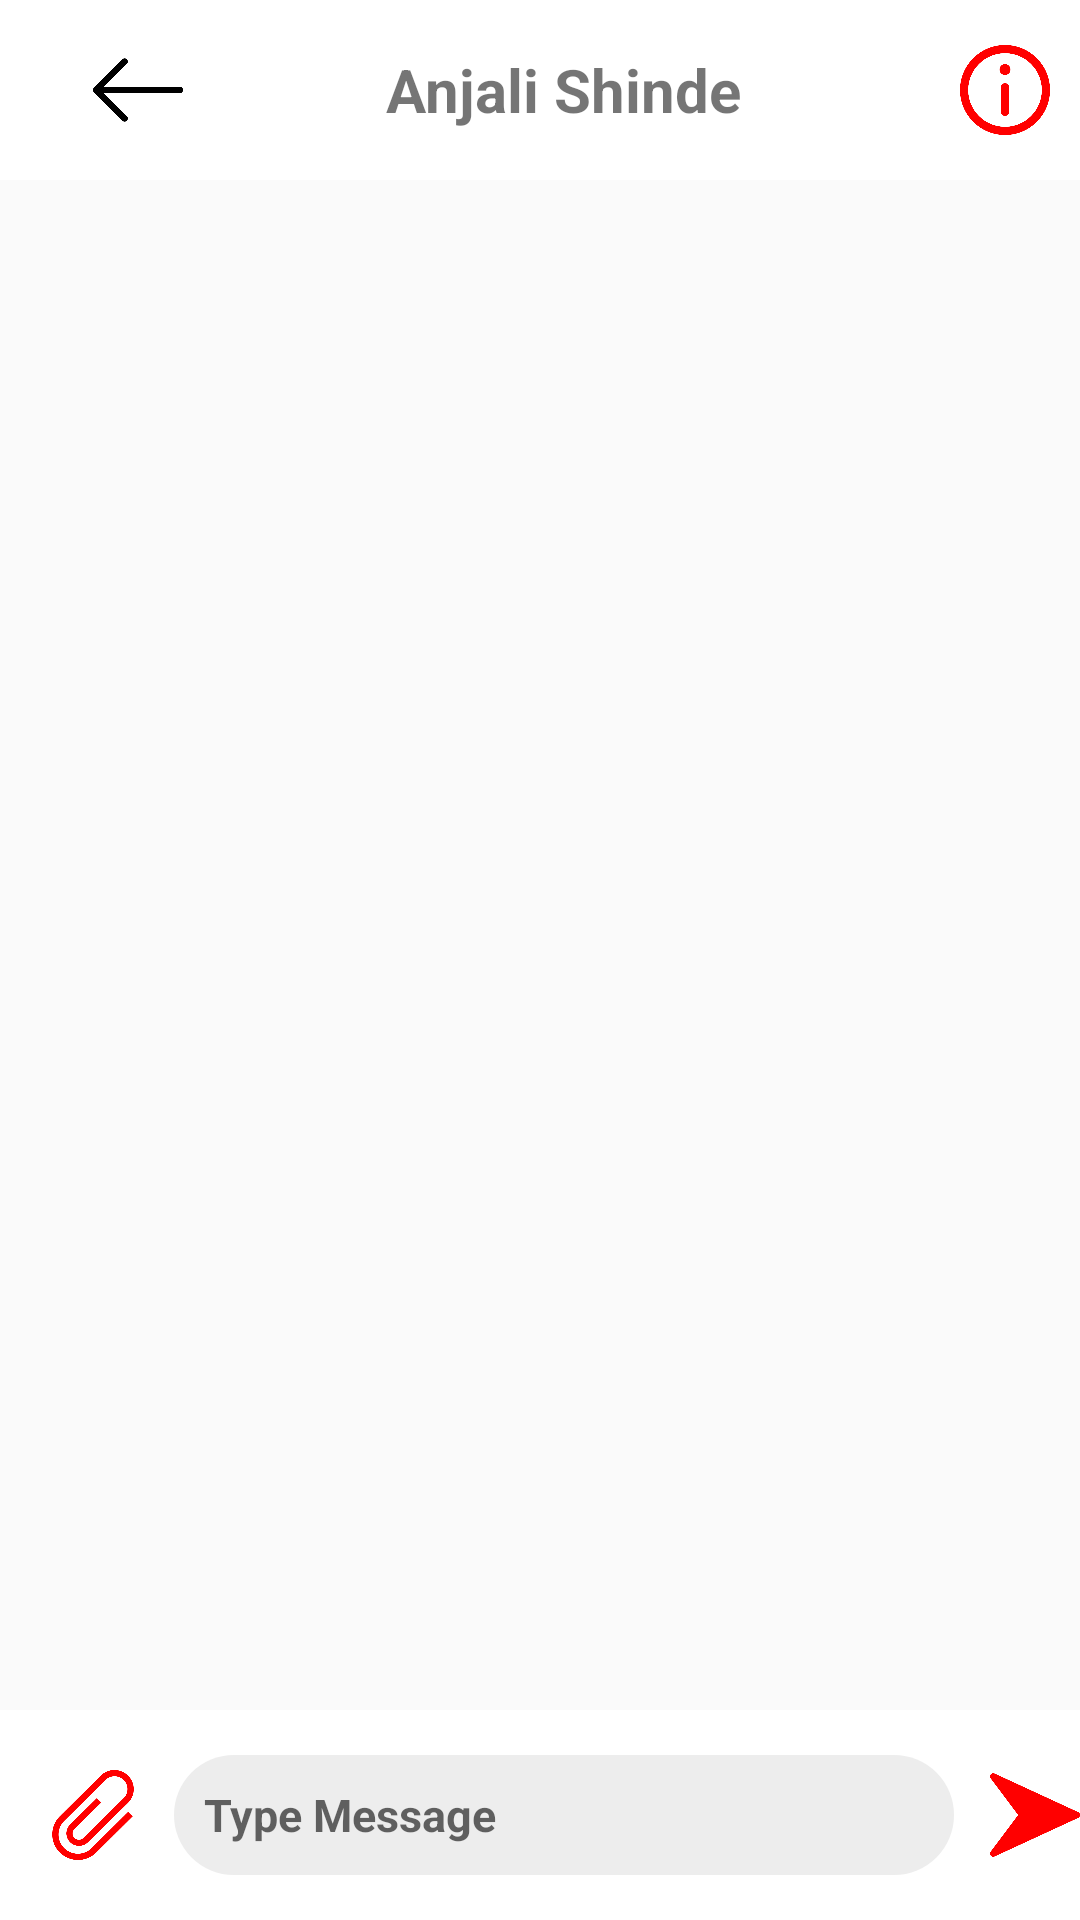

Where icons sit on this 1080px x 1920px app screen, as (x1,y1,x2,y2):
attachment: (52,1770,134,1860)
information: (960,45,1050,135)
left arrow: (93,58,183,122)
right arrow: (990,1773,1080,1857)
